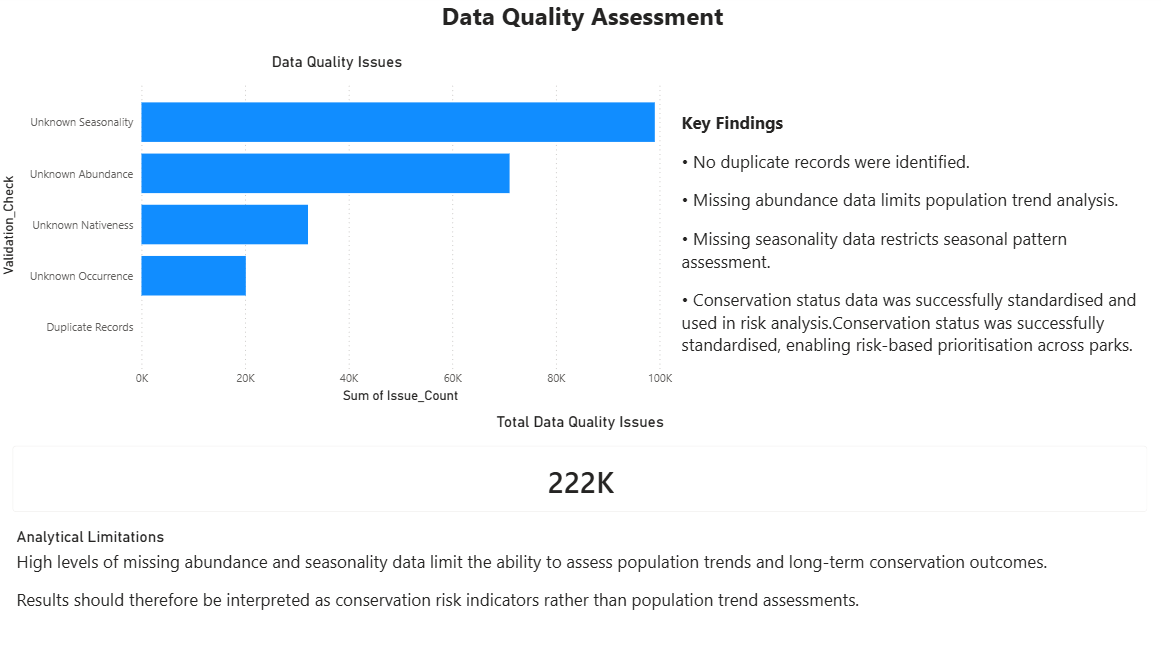

What the dashboard file says about the page in this screenshot:
{"tool":"powerbi","page":{"name":"Page 2Data Quality & Limitations","canvas":[1280,720],"ordinal":1},"visuals":[{"type":"clusteredBarChart","title":"Data Quality Issues","fields":{"Category":["data_quality_summary.Validation_Check"],"Y":["Sum(data_quality_summary.Issue_Count)"]},"box":[0,64.5,746.5,389.7],"z":0},{"type":"cardVisual","title":"Total Data Quality Issues","fields":{"Data":["Sum(data_quality_summary.Issue_Count)"]},"box":[0,459.7,1280.3,126.2],"z":1},{"type":"textbox","box":[746.5,123.5,533.8,330.7],"z":3},{"type":"textbox","title":"Analytical Limitations","box":[16.5,585.9,1263.8,113.9],"z":4},{"type":"textbox","box":[483,0,644.9,64.5],"z":5}]}

Visuals, with their boxes in screenshot pixels (x1, y1, x2, y2), scaled from the page's 1280x720 canvas onto the 1161x648 screenshot:
"Data Quality Issues" clusteredBarChart: bbox(0, 58, 677, 409)
"Total Data Quality Issues" cardVisual: bbox(0, 414, 1160, 527)
textbox: bbox(677, 111, 1160, 409)
"Analytical Limitations" textbox: bbox(15, 527, 1160, 630)
textbox: bbox(438, 0, 1023, 58)
